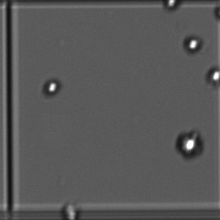Living Cell: (178, 135, 202, 155), (203, 62, 219, 91), (43, 79, 61, 95), (187, 36, 201, 56), (160, 1, 183, 12)
